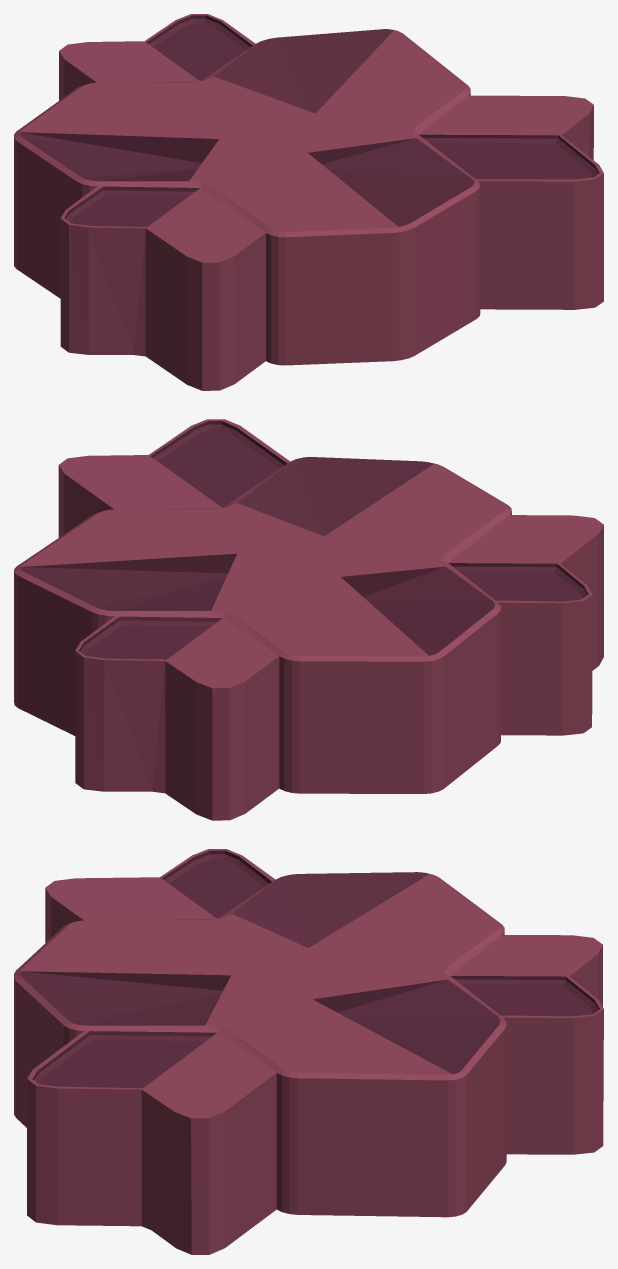
File: reidite_viewport.fbx
3 renders of one model, top to bottom at view 1: azimuth 30°, elevation 25°; view 2: azimuth 150°, elevation 25°; view 3: azimuth 270°, elevation 25°, orthographic. The views are drawn at different scales.
Visible parts, largest first — view 1: reidite_viewport_body; view 2: reidite_viewport_body; view 3: reidite_viewport_body.
Part boxes in pixels (x1,y1,x2,y2): reidite_viewport_body: [14, 14, 603, 390]; reidite_viewport_body: [14, 419, 603, 820]; reidite_viewport_body: [14, 849, 603, 1254].
Size of the model in its own units: 0.8266 by 0.2013 by 0.7658.
Materials: 1 (1 with a texture image).
